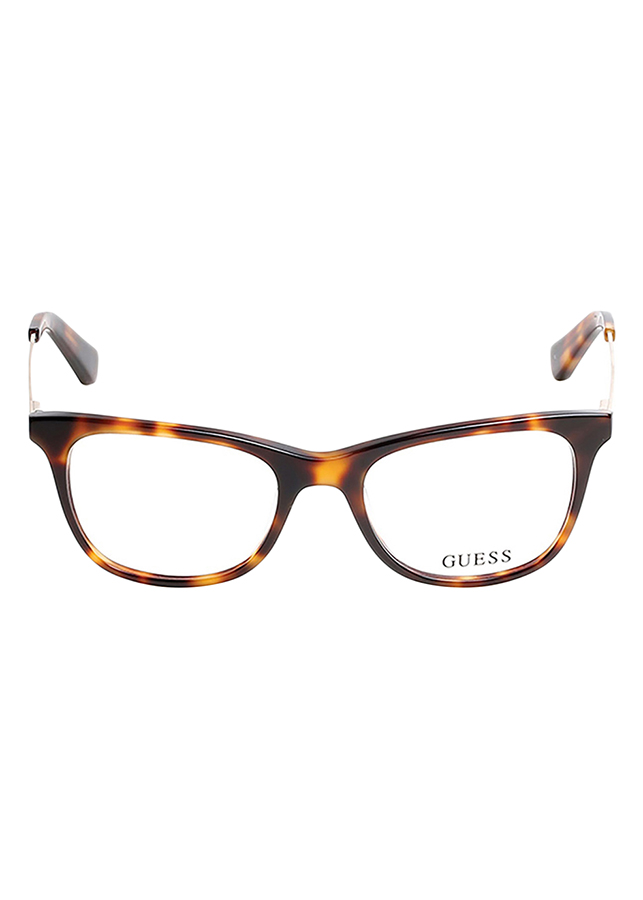Guess: (437, 540, 519, 571)
